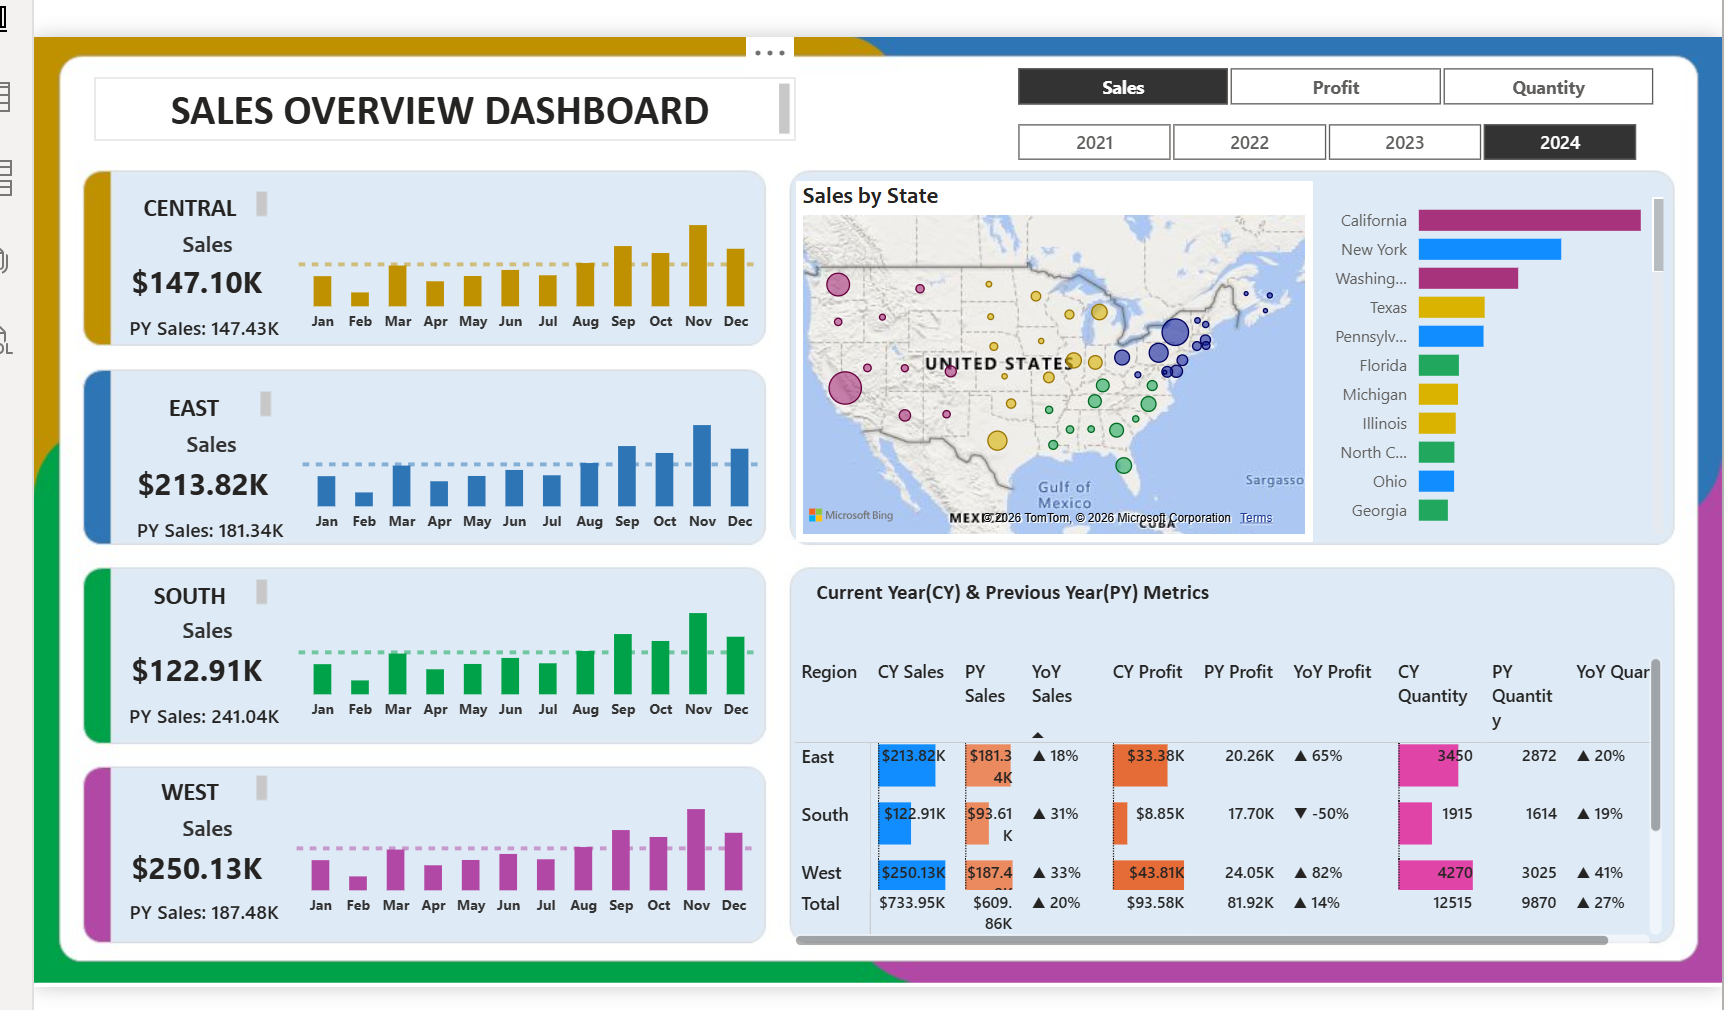

Layout of this report page (visuals, bound fields, positions):
{"tool":"powerbi","page":{"name":"Page 1","canvas":[1280,720],"ordinal":0},"visuals":[{"type":"slicer","fields":{"Values":["Select Metric.Select Metric"]},"box":[720,16.7,531.7,41.7],"z":0},{"type":"card","fields":{"Values":["Sales Data.Total Sales"]},"box":[64.4,170.4,119.3,34.1],"z":1000},{"type":"textbox","box":[62.5,111.7,119.3,30.3],"z":2000},{"type":"slicer","fields":{"Values":["Calender Table.Year"]},"box":[720.4,59.1,518.7,37.9],"z":3000},{"type":"card","fields":{"Values":["Sales Data.Dyanmic Title"]},"box":[88.3,143.3,83.3,28.3],"z":4000},{"type":"card","fields":{"Values":["Sales Data.PY. KPI Sales"]},"box":[64.4,206.4,130.7,22.7],"z":5000},{"type":"clusteredColumnChart","fields":{"Y":["Sales Data.Total Sales"],"Category":["Calender Table.Month"]},"box":[195,111.7,360,120],"z":6000},{"type":"textbox","box":[45.5,30.3,532.3,48.5],"z":7000},{"type":"card","fields":{"Values":["Sales Data.Total Sales"]},"box":[67.7,322.9,119.3,34.1],"z":8000},{"type":"textbox","box":[65.8,264.2,119.3,30.3],"z":9000},{"type":"card","fields":{"Values":["Sales Data.Dyanmic Title"]},"box":[91.7,295.8,83.3,28.3],"z":10000},{"type":"card","fields":{"Values":["Sales Data.PY. KPI Sales"]},"box":[67.7,358.9,130.7,22.7],"z":11000},{"type":"clusteredColumnChart","fields":{"Y":["Sales Data.Total Sales"],"Category":["Calender Table.Month"]},"box":[198.3,264.2,360,120],"z":12000},{"type":"card","fields":{"Values":["Sales Data.Total Sales"]},"box":[64.4,464.6,119.3,34.1],"z":13000},{"type":"textbox","box":[62.5,405.9,119.3,30.3],"z":14000},{"type":"card","fields":{"Values":["Sales Data.Dyanmic Title"]},"box":[88.3,437.5,83.3,28.3],"z":15000},{"type":"card","fields":{"Values":["Sales Data.PY. KPI Sales"]},"box":[64.4,500.6,130.7,22.7],"z":16000},{"type":"clusteredColumnChart","fields":{"Y":["Sales Data.Total Sales"],"Category":["Calender Table.Month"]},"box":[195,405.8,360,120],"z":17000},{"type":"card","fields":{"Values":["Sales Data.Total Sales"]},"box":[63.5,613.7,119.3,34.1],"z":18000},{"type":"textbox","box":[61.7,555,119.3,30.3],"z":19000},{"type":"card","fields":{"Values":["Sales Data.Dyanmic Title"]},"box":[87.5,586.7,83.3,28.3],"z":20000},{"type":"card","fields":{"Values":["Sales Data.PY. KPI Sales"]},"box":[63.5,649.7,130.7,22.7],"z":21000},{"type":"clusteredColumnChart","fields":{"Y":["Sales Data.Total Sales"],"Category":["Calender Table.Month"]},"box":[194.2,555,360,120],"z":22000},{"type":"map","title":"Sales by State","fields":{"Category":["Sales Data.State/Province"],"Size":["Sales Data.Total Sales"],"Series":["Sales Data.Region"]},"box":[577.8,109.2,391.3,273],"z":23000},{"type":"barChart","fields":{"Category":["Sales Data.State/Province"],"Y":["Sales Data.Total Sales"],"Series":["Sales Data.Region"]},"box":[969.1,109.2,271.5,273],"z":23001},{"type":"pivotTable","fields":{"Rows":["Sales Data.Region"],"Values":["Sales Data.CY Sales","Sales Data.PY Sales","Sales Data.YoY Sales","Sales Data.CY Profit","Sales Data.PY Profit","Sales Data.YoY Profit","Sales Data.CY Quantity","Sales Data.PY Quantity","Sales Data.YoY Quantity"]},"box":[571.8,465.6,667.3,229],"z":23002},{"type":"textbox","box":[588.4,406.4,344.3,42.5],"z":23003}]}

Visuals, with their boxes on the page's 1280x720 design canvas (x1, y1, x2, y2). These are canvas units, not pixel positions in the 1733x1010 screenshot, which may show the page scaled, cropped or inside an application window:
slicer - Select Metric.Select Metric: detection(720, 17, 1252, 58)
card - Sales Data.Total Sales: detection(64, 170, 184, 204)
textbox: detection(62, 112, 182, 142)
slicer - Calender Table.Year: detection(720, 59, 1239, 97)
card - Sales Data.Dyanmic Title: detection(88, 143, 172, 172)
card - Sales Data.PY. KPI Sales: detection(64, 206, 195, 229)
clusteredColumnChart - Sales Data.Total Sales x Calender Table.Month: detection(195, 112, 555, 232)
textbox: detection(46, 30, 578, 79)
card - Sales Data.Total Sales: detection(68, 323, 187, 357)
textbox: detection(66, 264, 185, 294)
card - Sales Data.Dyanmic Title: detection(92, 296, 175, 324)
card - Sales Data.PY. KPI Sales: detection(68, 359, 198, 382)
clusteredColumnChart - Sales Data.Total Sales x Calender Table.Month: detection(198, 264, 558, 384)
card - Sales Data.Total Sales: detection(64, 465, 184, 499)
textbox: detection(62, 406, 182, 436)
card - Sales Data.Dyanmic Title: detection(88, 438, 172, 466)
card - Sales Data.PY. KPI Sales: detection(64, 501, 195, 523)
clusteredColumnChart - Sales Data.Total Sales x Calender Table.Month: detection(195, 406, 555, 526)
card - Sales Data.Total Sales: detection(64, 614, 183, 648)
textbox: detection(62, 555, 181, 585)
card - Sales Data.Dyanmic Title: detection(88, 587, 171, 615)
card - Sales Data.PY. KPI Sales: detection(64, 650, 194, 672)
clusteredColumnChart - Sales Data.Total Sales x Calender Table.Month: detection(194, 555, 554, 675)
"Sales by State" map: detection(578, 109, 969, 382)
barChart - Sales Data.State/Province x Sales Data.Total Sales: detection(969, 109, 1241, 382)
pivotTable - Sales Data.Region x Sales Data.CY Sales: detection(572, 466, 1239, 695)
textbox: detection(588, 406, 933, 449)
